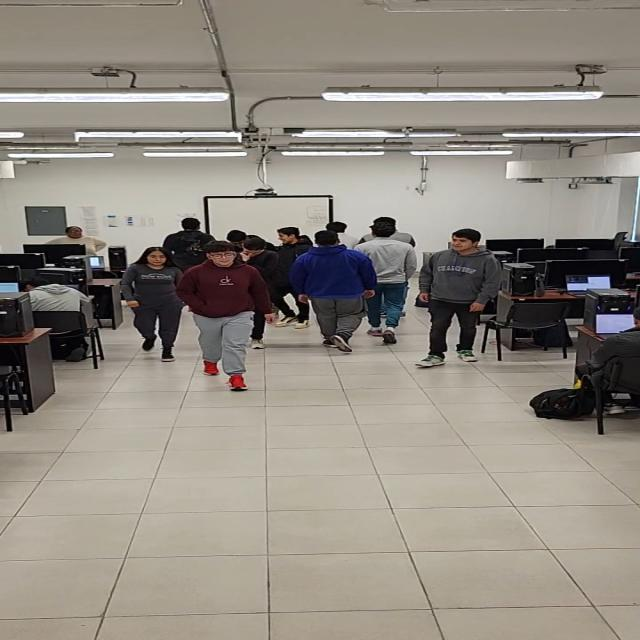Persona: (184, 242, 263, 393), (422, 226, 494, 371), (116, 245, 184, 362), (299, 231, 356, 355), (362, 226, 418, 346), (275, 225, 309, 328)
